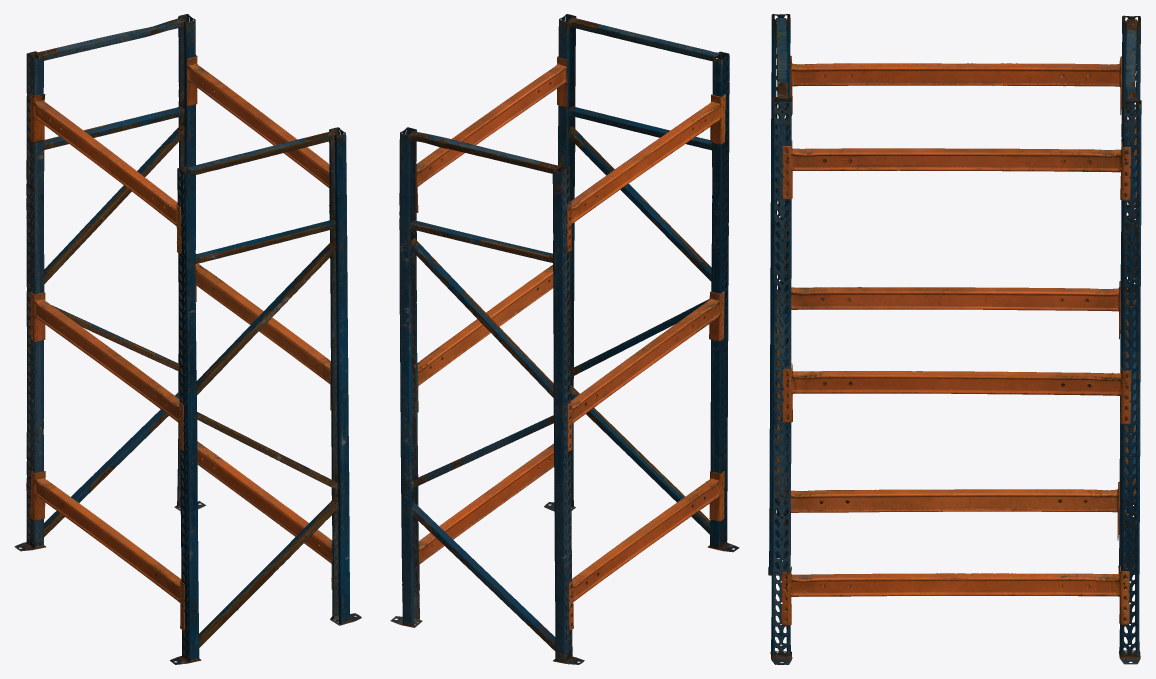
Rendered from 3d_scan_quixel_megascans_metal_pallet_racking.glb.
The picture shows the model from 3 angles, left to right: view 1: azimuth 30°, elevation 25°; view 2: azimuth 150°, elevation 25°; view 3: azimuth 270°, elevation 25°; orthographic projection. The views are drawn at different scales.
Parts seen in each view (by area): view 1: Object_2, Object_3, Object_8, Object_7, Object_9, Object_4, Object_5, Object_6; view 2: Object_3, Object_2, Object_7, Object_9, Object_8, Object_4, Object_5, Object_6; view 3: Object_2, Object_3, Object_6, Object_5, Object_4, Object_9, Object_7, Object_8.
Part boxes in pixels (box(x1,y1,x2,y2)): Object_2: box(170, 127, 361, 664); Object_3: box(14, 14, 206, 551); Object_8: box(30, 470, 184, 630); Object_7: box(30, 292, 183, 450); Object_9: box(30, 93, 181, 254); Object_4: box(186, 55, 329, 213); Object_5: box(195, 253, 331, 410); Object_6: box(197, 441, 332, 589); Object_3: box(390, 127, 584, 664); Object_2: box(544, 14, 739, 552); Object_7: box(567, 291, 724, 451); Object_9: box(567, 94, 725, 252); Object_8: box(568, 471, 724, 630); Object_4: box(416, 56, 567, 212); Object_5: box(413, 265, 553, 412); Object_6: box(418, 443, 553, 590); Object_2: box(768, 14, 792, 664); Object_3: box(1118, 15, 1141, 664); Object_6: box(781, 565, 1129, 625); Object_5: box(782, 363, 1131, 424); Object_4: box(782, 140, 1130, 200); Object_9: box(784, 55, 1128, 114); Object_7: box(791, 281, 1127, 339); Object_8: box(791, 481, 1126, 540).
Size of the model in its own units: 1.04 by 2.59 by 1.58.
1 material, 1 textured.
